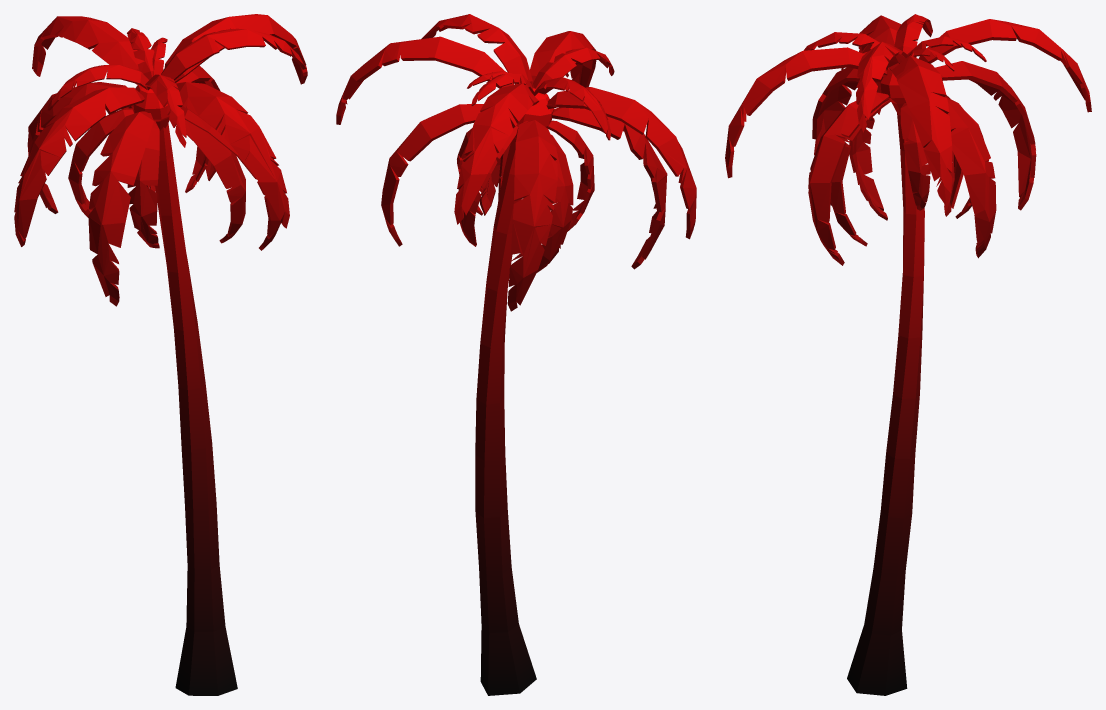
The model's file is TreePalm02.fbx.
3 views of the same model, side by side, from view 1: azimuth 30°, elevation 25°; view 2: azimuth 150°, elevation 25°; view 3: azimuth 270°, elevation 25° (orthographic).
Visible parts, largest first — view 1: TreePalm02_LOD0; view 2: TreePalm02_LOD0; view 3: TreePalm02_LOD0.
Boxes of the visible parts, x1,y1,x2,y2 form: TreePalm02_LOD0: [14, 14, 307, 695]; TreePalm02_LOD0: [336, 14, 696, 695]; TreePalm02_LOD0: [725, 14, 1091, 695].
Size of what is drawn, in the model's own units: 378 by 735 by 377.
